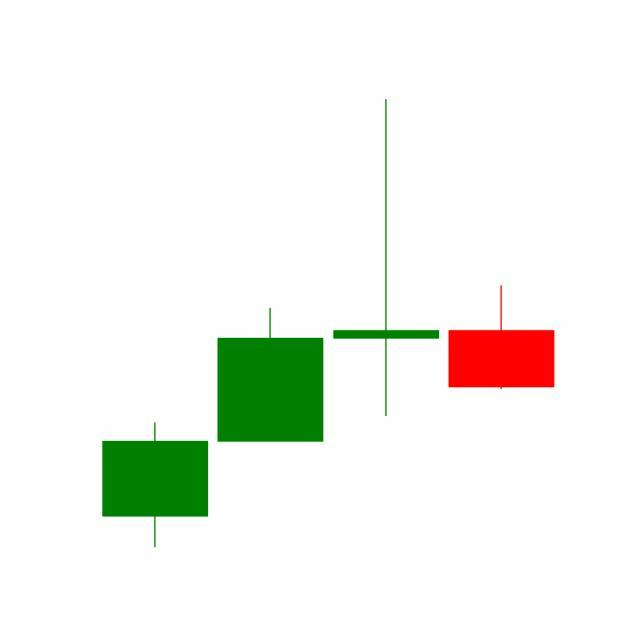Spinning Top: (329, 96, 445, 420)
